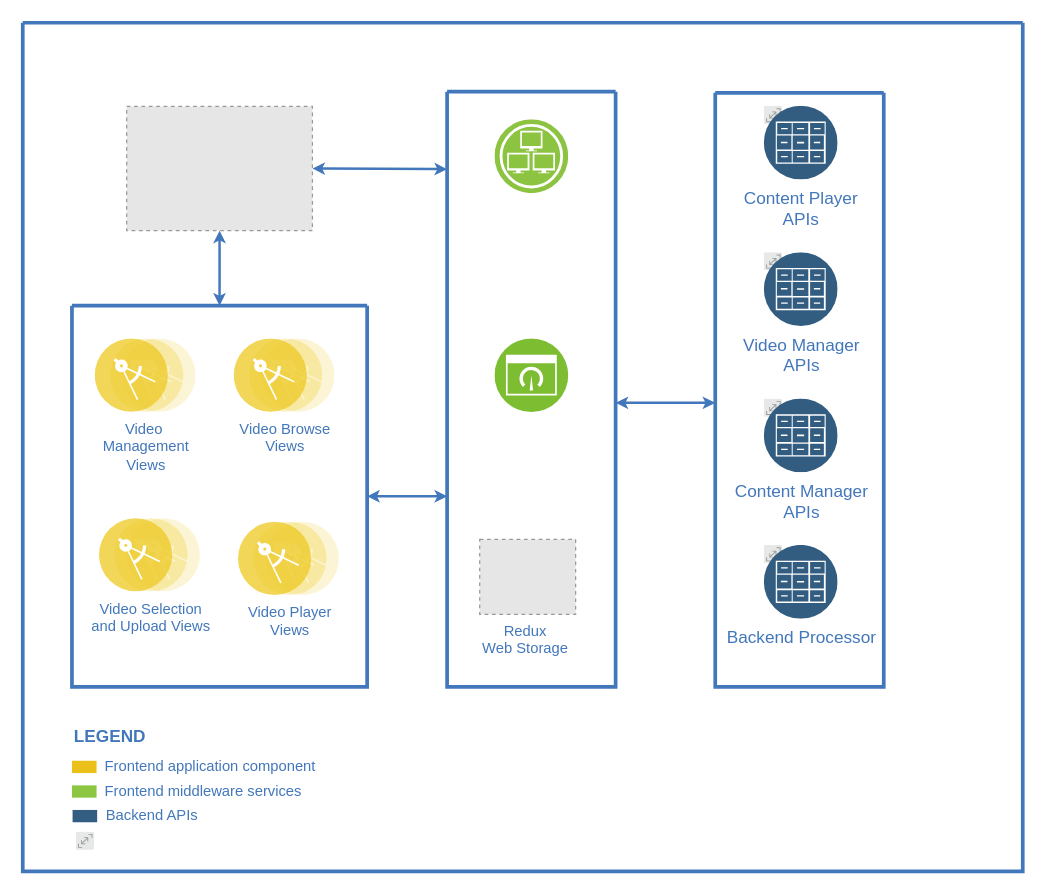
The diagram is 1046 pixels wide and 894 high, and some of its shapes have lost their labels. Grey dashed boxes stand in for pictures. Each missing label, with the box of its shape:
Content Metadata Controller: (494, 119, 568, 193)
Scalable: (76, 831, 94, 850)
Video Player Controller: (494, 338, 568, 412)
